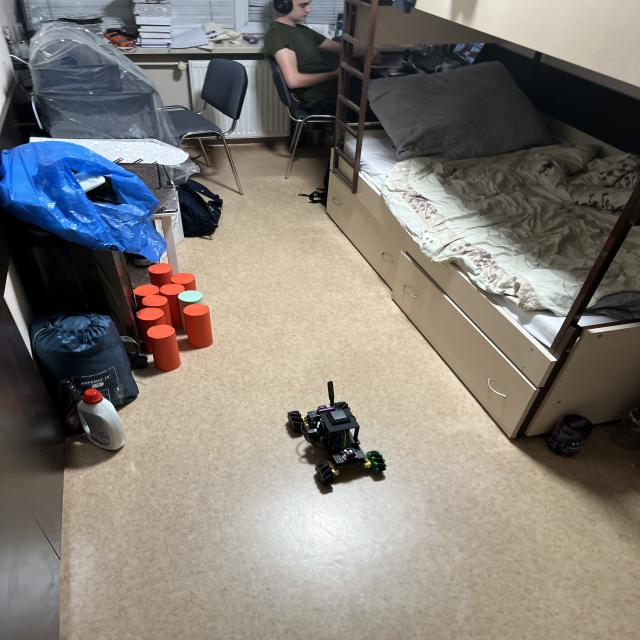robot: (288, 381, 386, 485)
